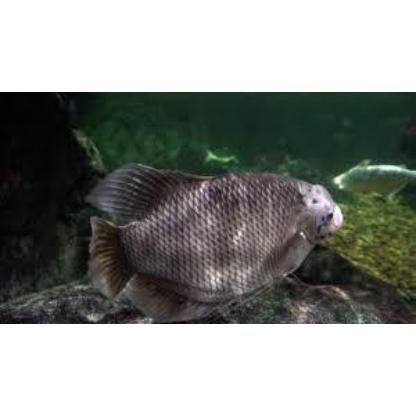gurame: (92, 159, 344, 321)
